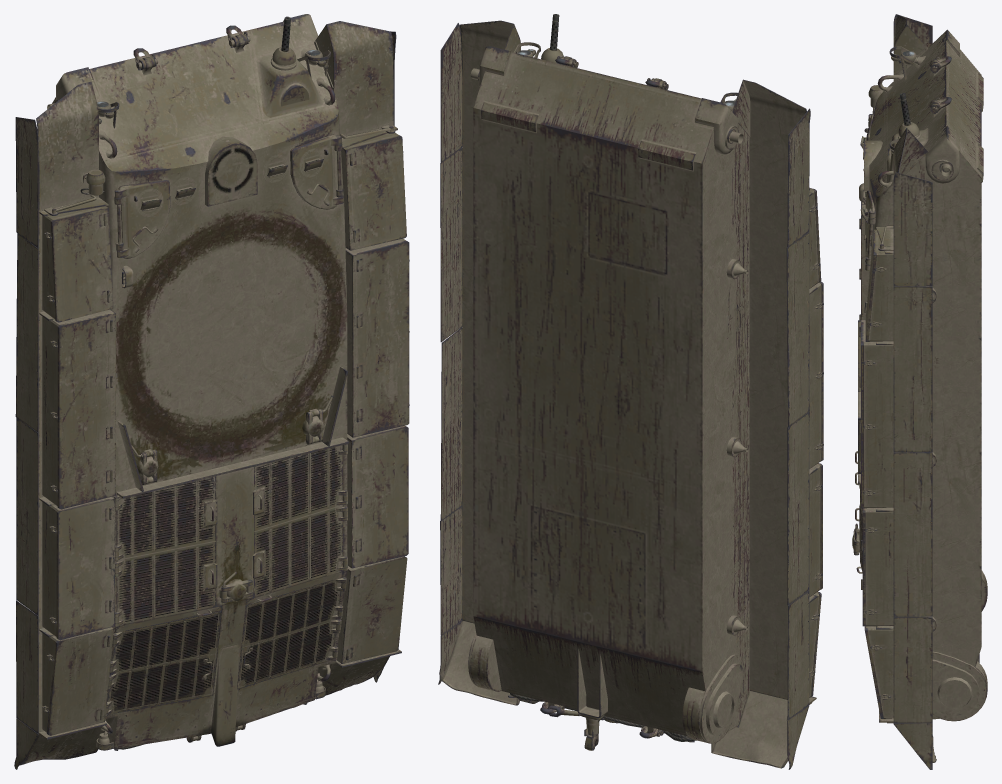
The model's file is Hull.glb.
3 renders of one model, left to right at view 1: azimuth 30°, elevation 25°; view 2: azimuth 150°, elevation 25°; view 3: azimuth 270°, elevation 25°, orthographic. The views are drawn at different scales.
Visible parts, largest first — view 1: set_0_group_0; view 2: set_0_group_0; view 3: set_0_group_0.
Part boxes in pixels (bbox=[...]): set_0_group_0: bbox=[14, 14, 409, 769]; set_0_group_0: bbox=[438, 14, 823, 769]; set_0_group_0: bbox=[852, 14, 987, 769].
Bounding box in the file's own units: 3.17 × 5.92 × 1.14.
Materials: 1 (1 with a texture image).
